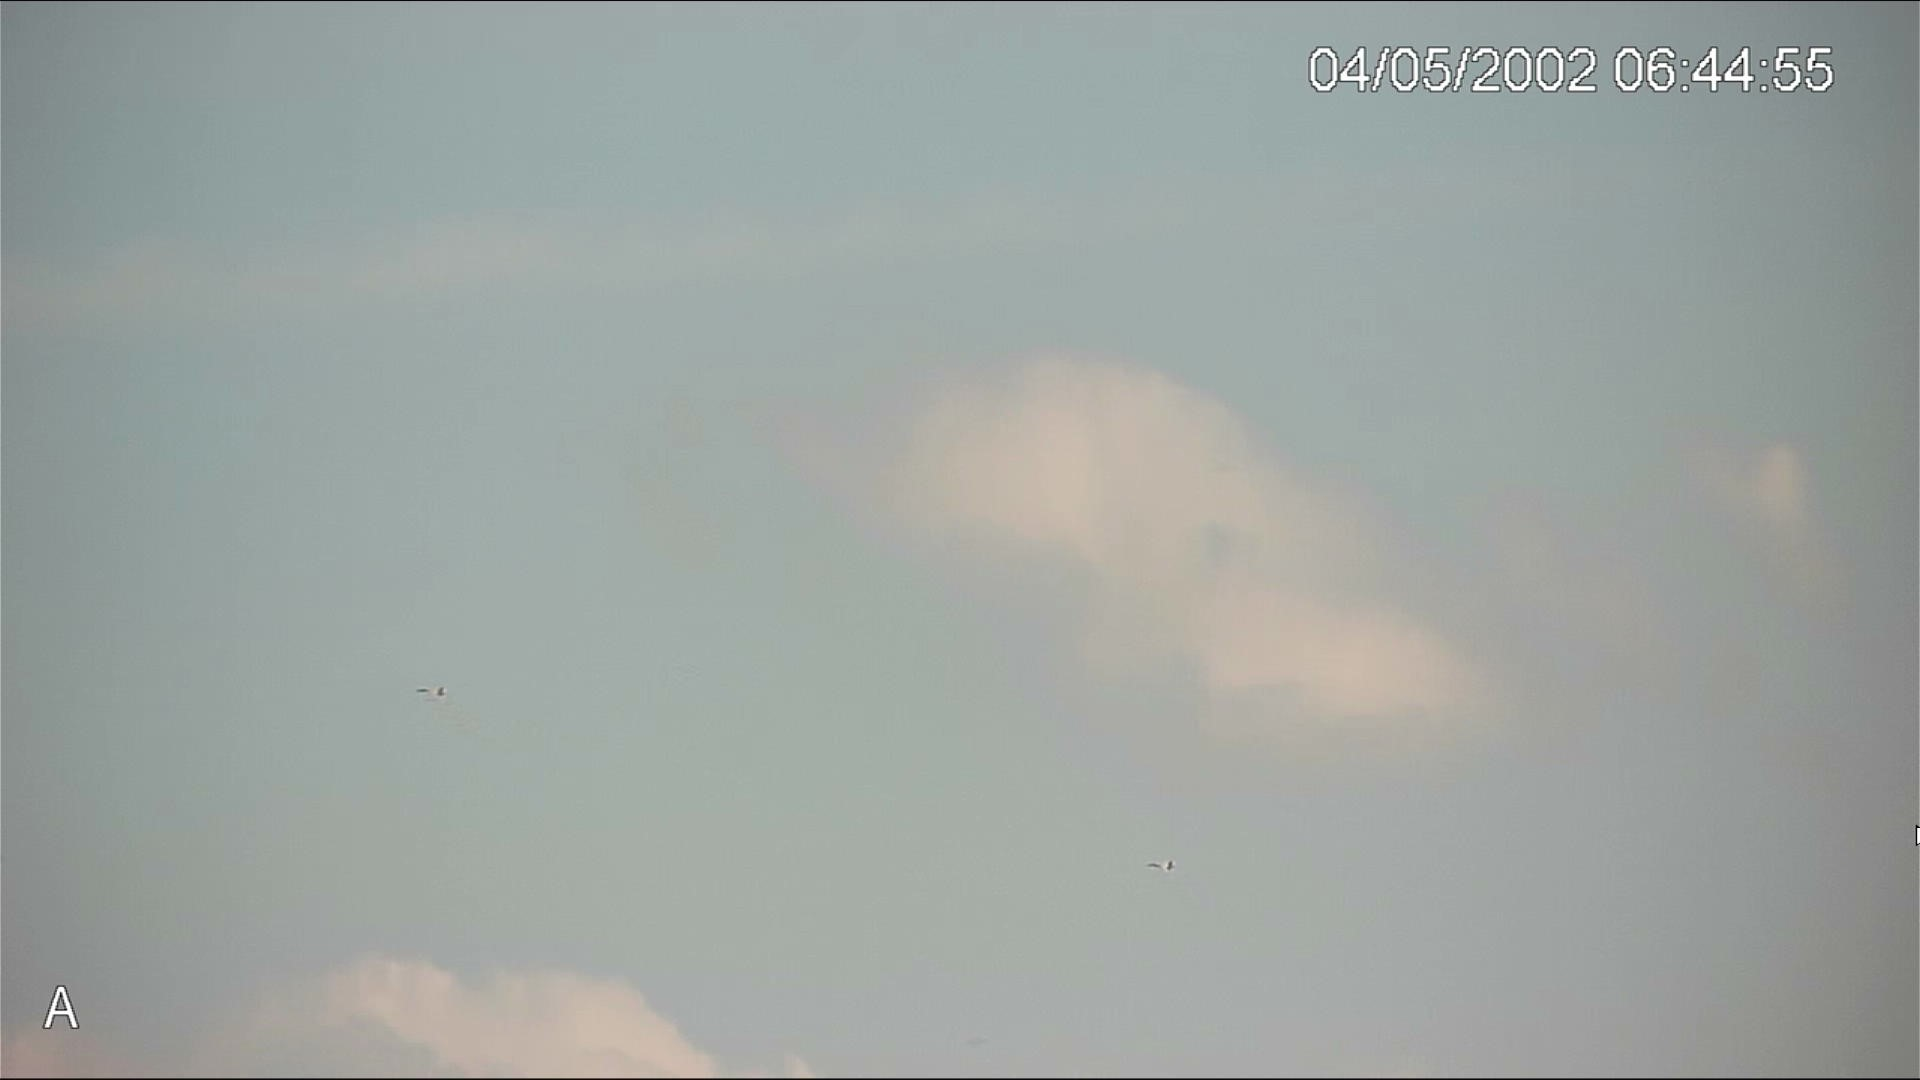SU_30: (411, 676, 458, 702), (1142, 858, 1178, 873)
